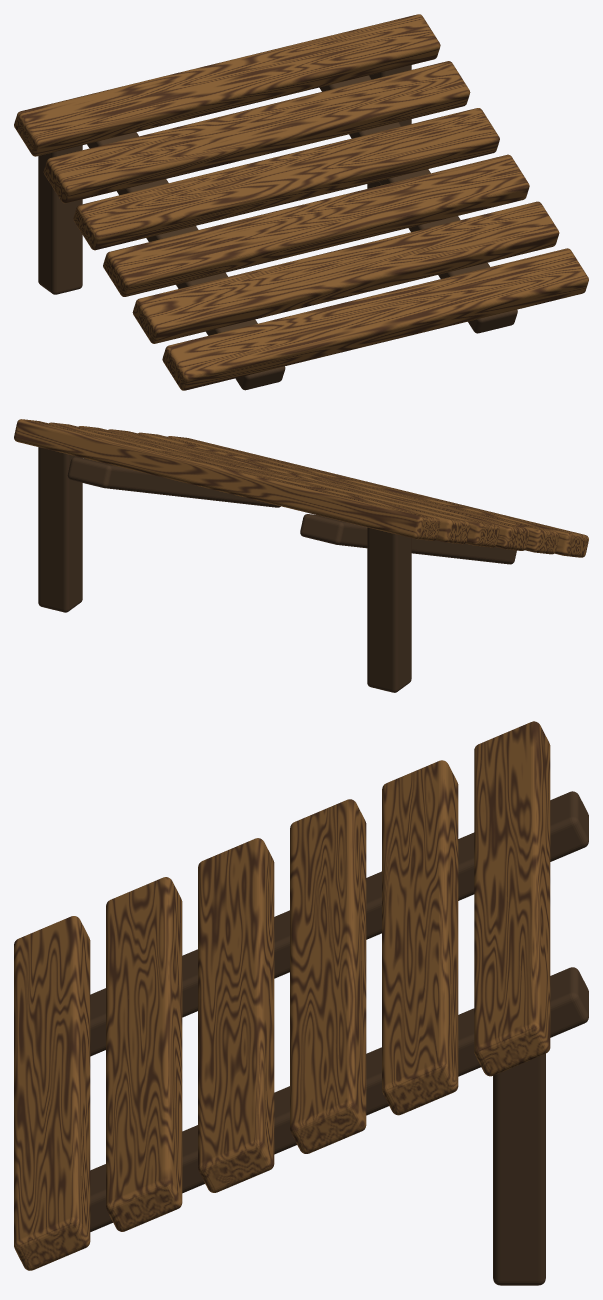
File: Ramp.fbx
3 views of the same model, one above another, from view 1: azimuth 30°, elevation 25°; view 2: azimuth 150°, elevation 25°; view 3: azimuth 270°, elevation 25° (orthographic). The views are drawn at different scales.
Visible parts, largest first — view 1: logs, Vertical, Support; view 2: logs, Vertical, Support; view 3: logs, Support, Vertical.
Part boxes in pixels (x1,y1,x2,y2): logs: [14, 14, 588, 390]; Vertical: [38, 65, 411, 294]; Support: [87, 75, 517, 390]; logs: [14, 419, 588, 557]; Vertical: [38, 447, 411, 692]; Support: [67, 457, 516, 564]; logs: [14, 721, 550, 1270]; Support: [90, 791, 588, 1231]; Vertical: [493, 1053, 545, 1285].
Size of the model in its own units: 200 by 85.08 by 159.
Materials: 2 (1 with a texture image).
